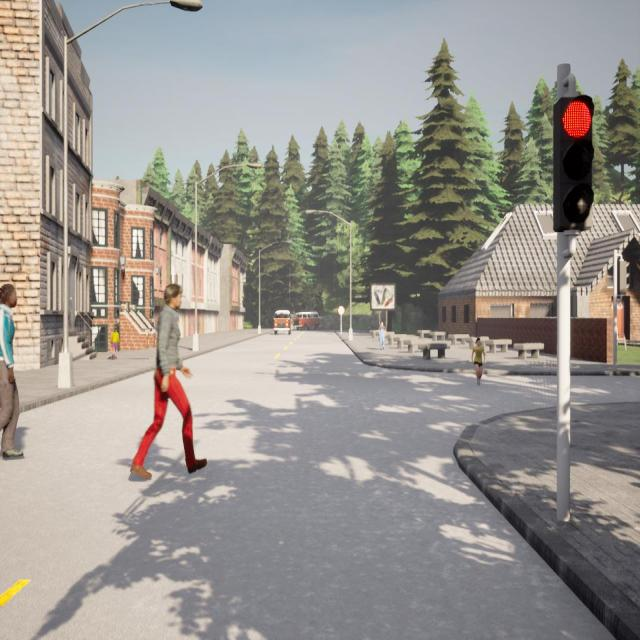Pedestrian: (130, 283, 207, 479), (0, 283, 28, 461), (472, 337, 485, 387), (110, 325, 122, 362), (379, 321, 385, 350)
Traffic_Signs: (338, 306, 344, 315)
Vehicle: (293, 311, 321, 330), (273, 309, 292, 336)
traffic_light: (553, 94, 593, 232), (618, 260, 630, 294)
